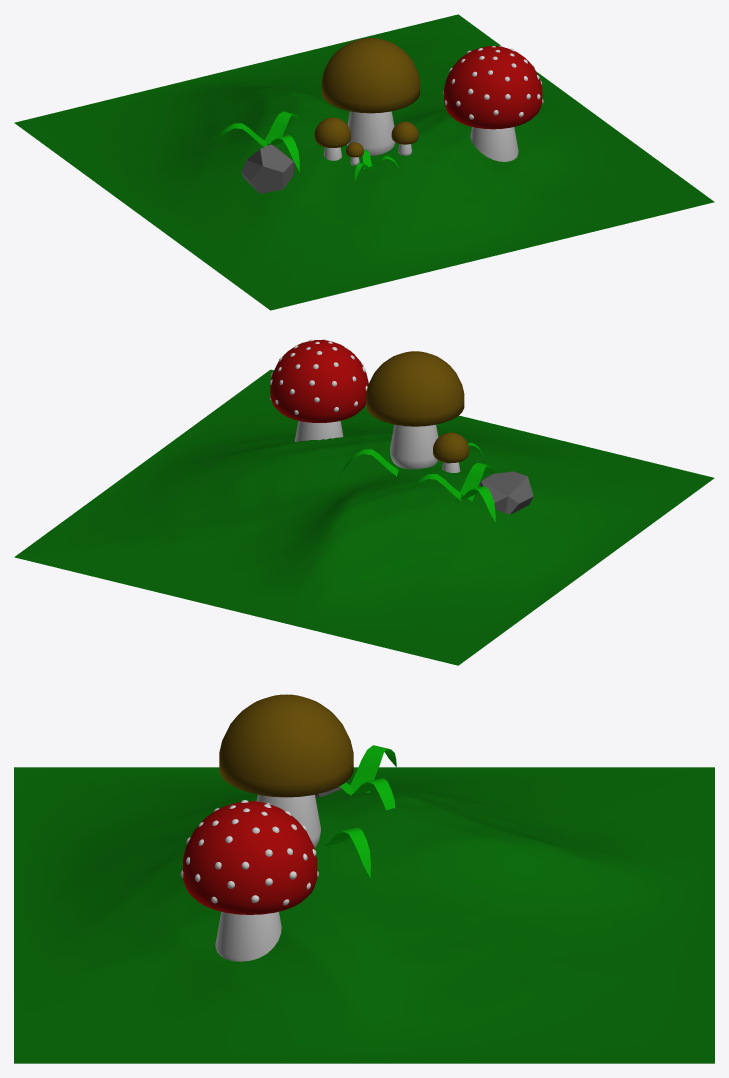
The model's file is mushrooms.fbx.
The picture shows the model from 3 angles, top to bottom: view 1: azimuth 30°, elevation 25°; view 2: azimuth 150°, elevation 25°; view 3: azimuth 270°, elevation 25°; orthographic projection. The views are drawn at different scales.
Visible parts, largest first — view 1: Объект_Ландшафт, Red_Mushroom, White_Mushroom_1, Объект_Платоново_тело, Grass_Big, Small_white_mushroom_1, Small_white_mushroom_3; view 2: Объект_Ландшафт, White_Mushroom_1, Red_Mushroom, Объект_Платоново_тело, Grass_Big, Small_white_mushroom_1; view 3: Объект_Ландшафт, Red_Mushroom, White_Mushroom_1, Grass_Big, Grass_once.
Boxes of the visible parts, box(x1,y1,x2,y2) form: Объект_Ландшафт: box(14, 14, 714, 310); Red_Mushroom: box(443, 45, 543, 161); White_Mushroom_1: box(321, 38, 419, 155); Объект_Платоново_тело: box(241, 144, 295, 193); Grass_Big: box(210, 111, 300, 171); Small_white_mushroom_1: box(314, 117, 350, 160); Small_white_mushroom_3: box(391, 121, 418, 155); Объект_Ландшафт: box(14, 369, 714, 665); White_Mushroom_1: box(366, 351, 464, 469); Red_Mushroom: box(269, 339, 368, 441); Объект_Платоново_тело: box(480, 471, 533, 514); Grass_Big: box(412, 462, 495, 521); Small_white_mushroom_1: box(433, 432, 469, 472); Объект_Ландшафт: box(14, 767, 714, 1063); Red_Mushroom: box(180, 800, 318, 961); White_Mushroom_1: box(219, 694, 353, 847); Grass_Big: box(339, 745, 396, 810); Grass_once: box(324, 827, 370, 877).
Size of what is drawn, in the model's own units: 115 by 36.58 by 115.
